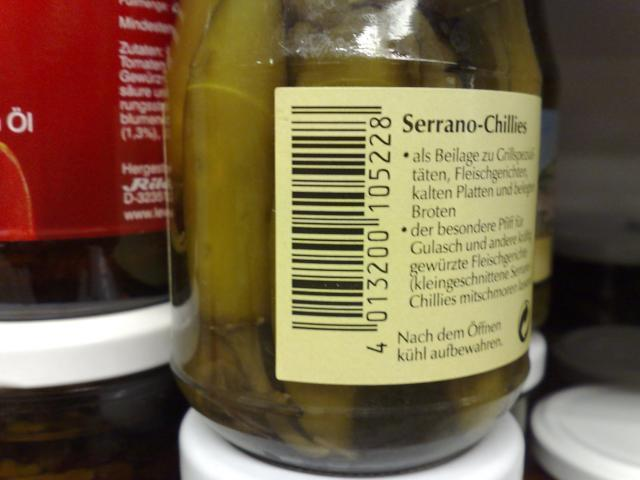Barcode: (278, 91, 396, 366)
